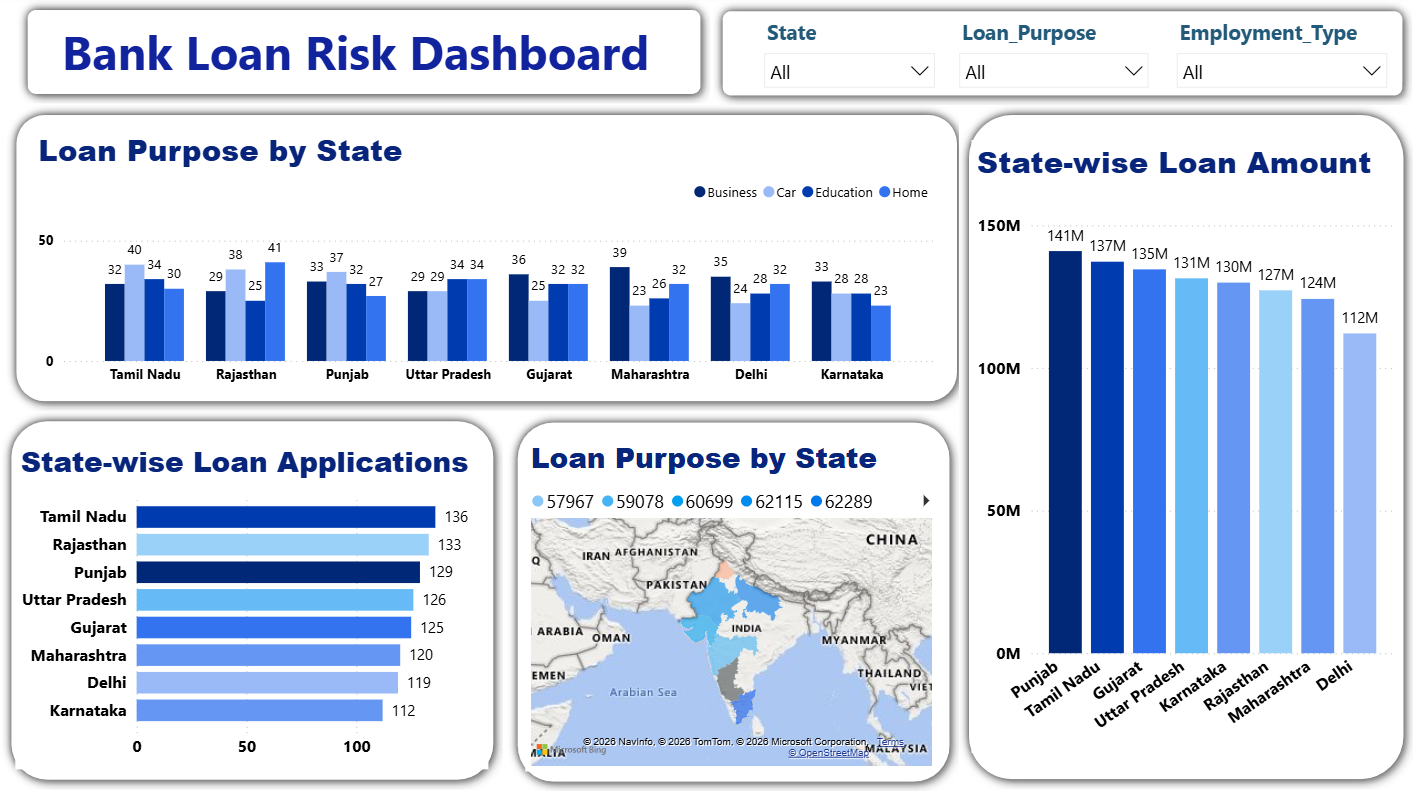

Layout of this report page (visuals, bound fields, positions):
{"tool":"powerbi","page":{"name":"Geographic Analysis","canvas":[1280,720],"ordinal":2},"visuals":[{"type":"group","id":"g1","title":"Group 1","box":[17.2,4.8,625.7,94.3],"z":0},{"type":"shape","box":[17.2,4.8,626.6,94],"z":0,"group":"g1"},{"type":"shape","box":[645.9,6.1,632.9,94.3],"z":0,"group":"g2"},{"type":"shape","box":[7.1,100,868.8,277],"z":0,"group":"g4"},{"type":"shape","box":[868.8,100,411.1,618.9],"z":0,"group":"g6"},{"type":"shape","box":[2,377,453.9,342.2],"z":0,"group":"g5"},{"type":"shape","box":[460.1,377.2,408.7,343],"z":0,"group":"g3"},{"type":"group","id":"g2","title":"Group 1","box":[645.9,6.1,632.9,94.3],"z":1000},{"type":"clusteredColumnChart","title":"Loan Purpose by State","fields":{"Category":["Loan_data.State"],"Series":["Loan_data.Loan_Purpose"],"Y":["CountNonNull(Loan_data.Customer_ID)"]},"box":[30.8,121.6,819.5,240.2],"z":1000,"group":"g4"},{"type":"columnChart","title":"State-wise Loan Amount","fields":{"Category":["Loan_data.State"],"Y":["Sum(Loan_data.Loan_Amount)"]},"box":[880.6,131.4,387.2,554.4],"z":1000,"group":"g6"},{"type":"filledMap","title":"Loan Purpose by State","fields":{"Category":["Loan_data.State"],"Series":["Loan_data.Loan_Amount"]},"box":[475.7,399.8,372.5,301.8],"z":1000,"group":"g3"},{"type":"clusteredBarChart","title":"State-wise Loan Applications","fields":{"Category":["Loan_data.State"],"Y":["CountNonNull(Loan_data.Customer_ID)"]},"box":[14.4,403.6,428.2,296.8],"z":1000,"group":"g5"},{"type":"slicer","fields":{"Values":["Loan_data.State"]},"box":[681.7,15.8,174.7,68.7],"z":2000},{"type":"slicer","fields":{"Values":["Loan_data.Loan_Purpose"]},"box":[857.8,15.8,191.9,68.7],"z":3000},{"type":"slicer","fields":{"Values":["Loan_data.Employment_Type"]},"box":[1055.5,15.8,210.5,68.7],"z":4000},{"type":"group","id":"g3","title":"Group 1","box":[460.1,377.2,408.7,341.5],"z":5000},{"type":"group","id":"g4","title":"Group 1","box":[7.1,100,868.8,277.2],"z":6000},{"type":"group","id":"g5","title":"Group 1","box":[2,377,454.4,342.9],"z":7000},{"type":"group","id":"g6","title":"Group 1","box":[868.8,100,411.1,618.9],"z":8000},{"type":"textbox","box":[52.1,17.6,573.9,68.4],"z":9003,"group":"g1"}]}

Visuals, with their boxes in screenshot pixels (x1, y1, x2, y2), scaled from the page's 1280x720 canvas onto the 1413x791 screenshot:
"Group 1" group: l=19, t=5, r=710, b=109
shape: l=19, t=5, r=711, b=109
shape: l=713, t=7, r=1412, b=110
shape: l=8, t=110, r=967, b=414
shape: l=959, t=110, r=1412, b=790
shape: l=2, t=414, r=503, b=790
shape: l=508, t=414, r=959, b=790
"Group 1" group: l=713, t=7, r=1412, b=110
"Loan Purpose by State" clusteredColumnChart: l=34, t=134, r=939, b=397
"State-wise Loan Amount" columnChart: l=972, t=144, r=1400, b=753
"Loan Purpose by State" filledMap: l=525, t=439, r=936, b=771
"State-wise Loan Applications" clusteredBarChart: l=16, t=443, r=489, b=769
slicer - Loan_data.State: l=753, t=17, r=945, b=93
slicer - Loan_data.Loan_Purpose: l=947, t=17, r=1159, b=93
slicer - Loan_data.Employment_Type: l=1165, t=17, r=1398, b=93
"Group 1" group: l=508, t=414, r=959, b=790
"Group 1" group: l=8, t=110, r=967, b=414
"Group 1" group: l=2, t=414, r=504, b=790
"Group 1" group: l=959, t=110, r=1412, b=790
textbox: l=58, t=19, r=691, b=94
